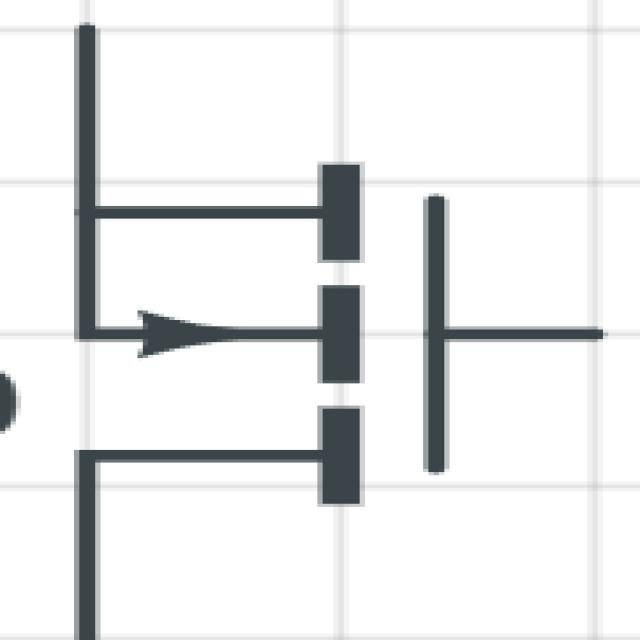nmos: (47, 20, 640, 640)
